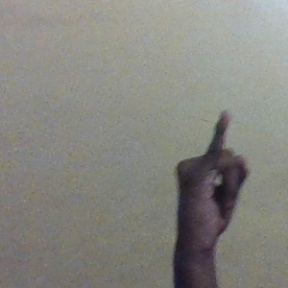I: (174, 107, 250, 241)
